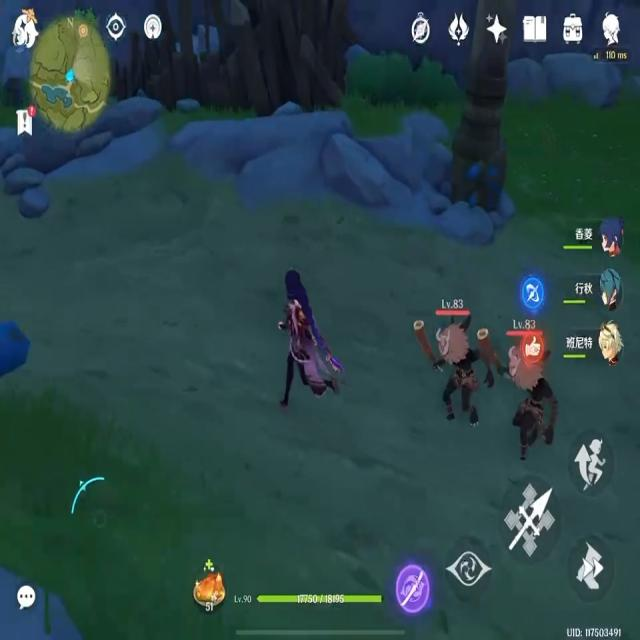genshin-hilichurls: (413, 314, 483, 417), (494, 368, 563, 459)
